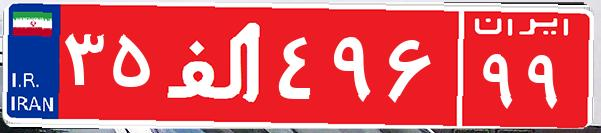3: (57, 26, 110, 107)
4: (273, 28, 330, 110)
5: (110, 28, 158, 105)
6: (385, 28, 445, 110)
9: (330, 28, 385, 110), (475, 38, 525, 113), (525, 38, 570, 115)
الف: (158, 15, 273, 115)
